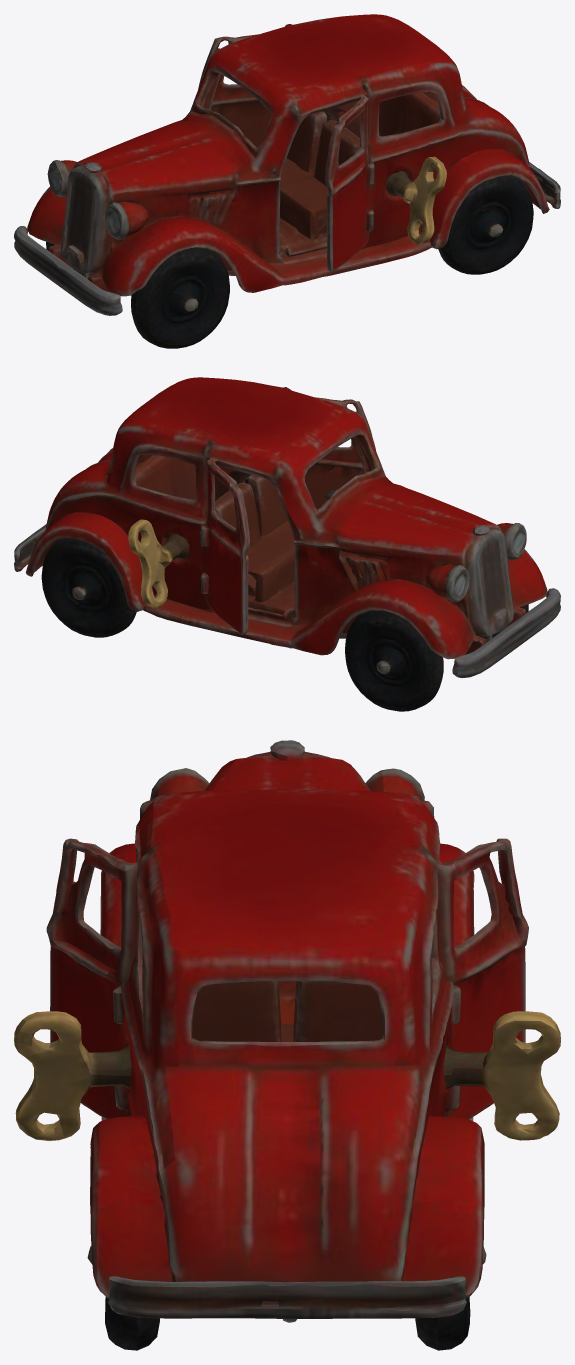
The model's file is parts.glb.
The picture shows the model from 3 angles, top to bottom: view 1: azimuth 30°, elevation 25°; view 2: azimuth 150°, elevation 25°; view 3: azimuth 270°, elevation 25°; orthographic projection. The views are drawn at different scales.
Size of the model in its own units: 0.28 by 0.1274 by 0.1582.
Materials: 8 (8 with a texture image).
